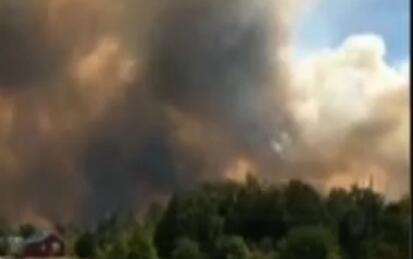yanwu: (0, 0, 407, 196)
